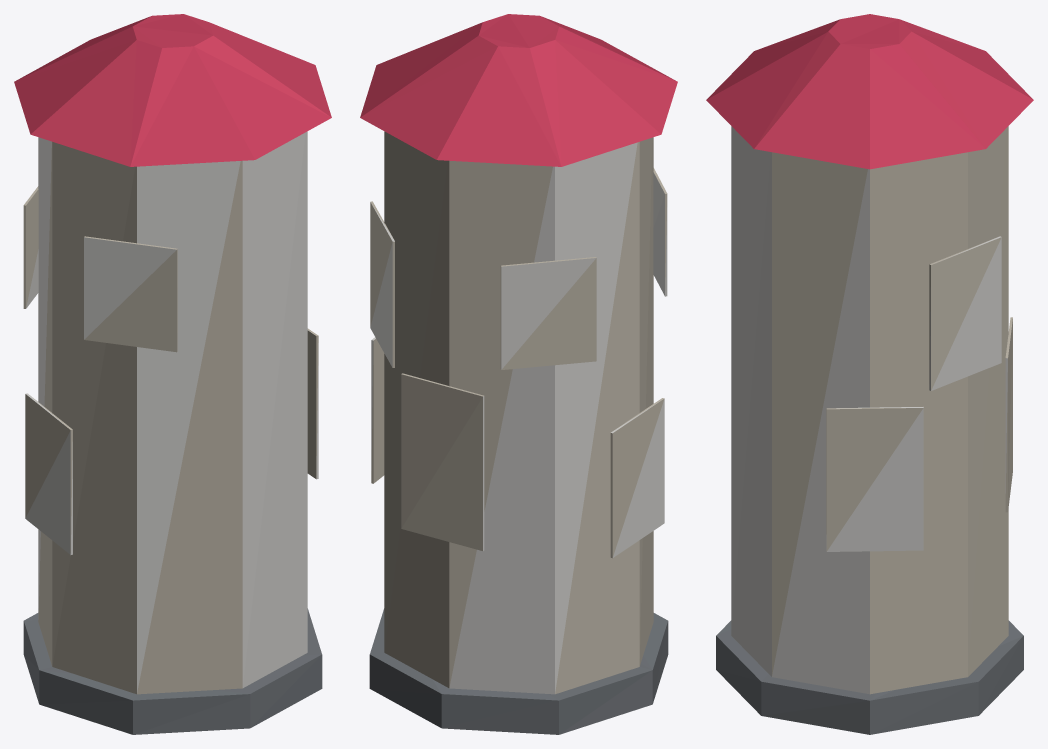
File: notice-kiosk-00.glb
The picture shows the model from 3 angles, left to right: view 1: azimuth 30°, elevation 25°; view 2: azimuth 150°, elevation 25°; view 3: azimuth 270°, elevation 25°; orthographic projection.
Parts seen in each view (by area): view 1: notice_kiosk_00; view 2: notice_kiosk_00; view 3: notice_kiosk_00.
Boxes of the visible parts, x1,y1,x2,y2 form: notice_kiosk_00: [14, 14, 331, 734]; notice_kiosk_00: [360, 14, 677, 734]; notice_kiosk_00: [706, 14, 1033, 734].
Size of the model in its own units: 1.3 by 2.79 by 1.3.
